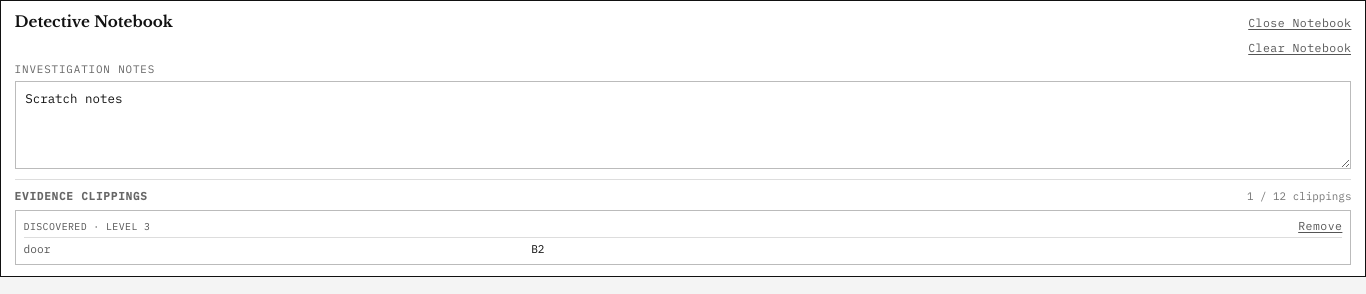
DetectiveNotebook › clears the complete notebook after confirmation
The width and height of the screenshot is (1366, 294).
Step 1. Click the button with aria-label "Clear notebook notes and evidence clippings" → (1300, 48), box [1248,40,1351,55]
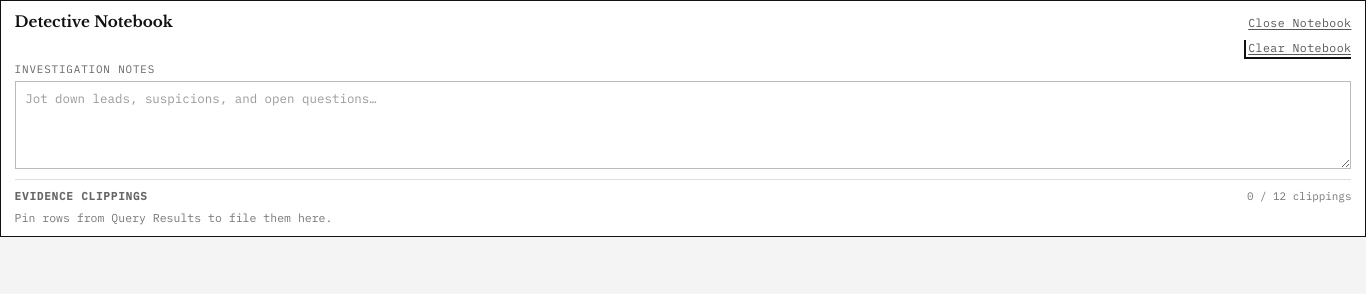
Check: the text box labelled "Investigation notes" is empty, box [15,81,1351,169]
Check: the text "0 / 12 clippings" is shown, box [1247,189,1351,203]
